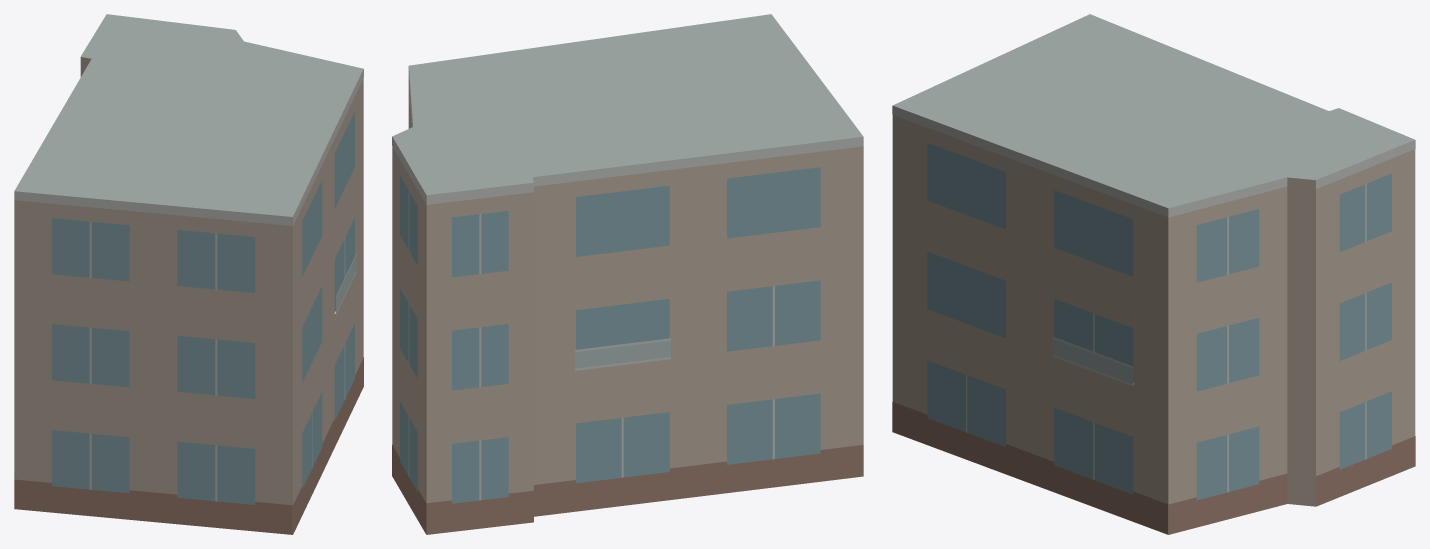
File: survey-upis-32678134.glb
3 renders of one model, left to right at view 1: azimuth 30°, elevation 25°; view 2: azimuth 150°, elevation 25°; view 3: azimuth 270°, elevation 25°, orthographic. The views are drawn at different scales.
Parts seen in each view (by area): view 1: survey-upis-32678134.tmp; view 2: survey-upis-32678134.tmp; view 3: survey-upis-32678134.tmp.
Boxes of the visible parts, x1=… form: survey-upis-32678134.tmp: x1=14, y1=14, x2=363, y2=534; survey-upis-32678134.tmp: x1=392, y1=14, x2=863, y2=534; survey-upis-32678134.tmp: x1=892, y1=14, x2=1415, y2=534.
Bounding box in the file's own units: 11.11 × 8.7 × 12.64.
